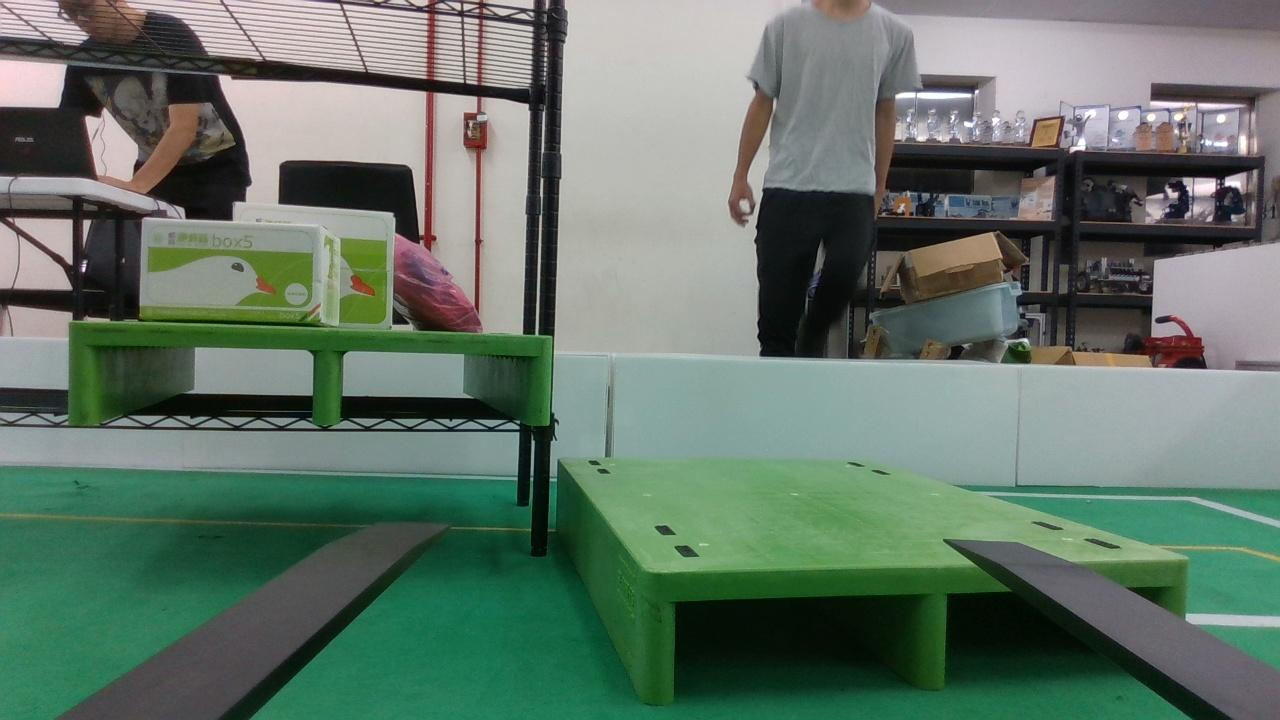Pallet: (640, 557, 1187, 705), (67, 321, 553, 430)
